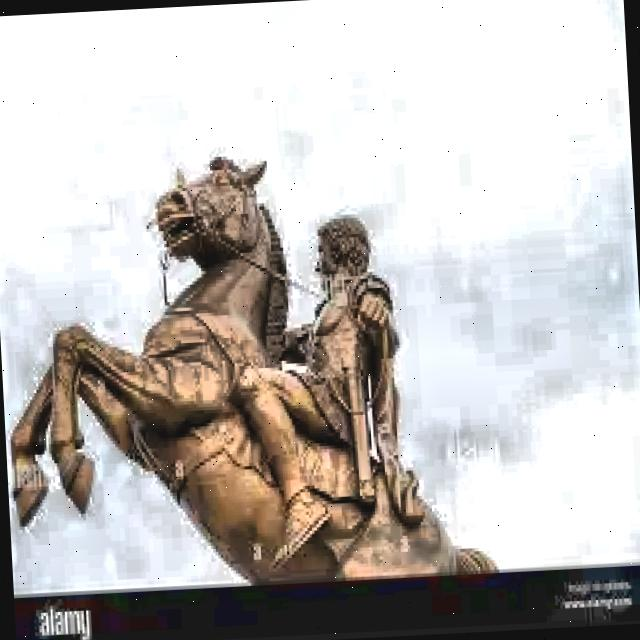alexander the great monument: (0, 142, 498, 596)
